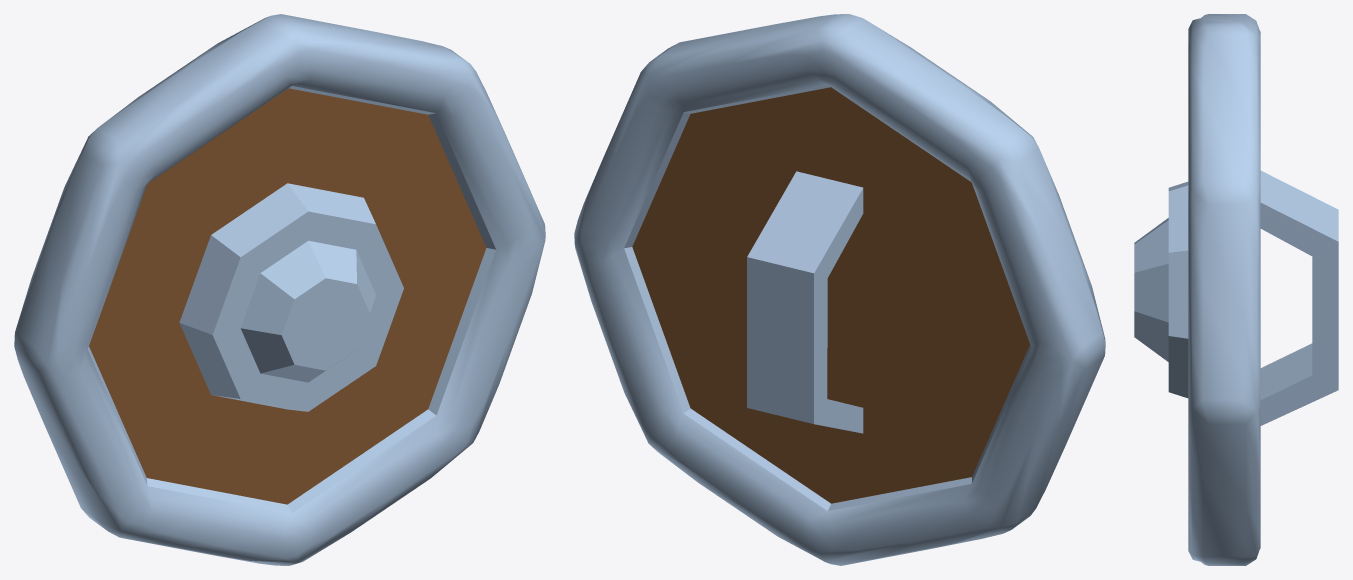
Rendered from shield.fbx.
3 renders of one model, left to right at view 1: azimuth 30°, elevation 25°; view 2: azimuth 150°, elevation 25°; view 3: azimuth 270°, elevation 25°, orthographic.
Parts seen in each view (by area): view 1: Shield03.001; view 2: Shield03.001; view 3: Shield03.001.
Part boxes in pixels (bbox=[...]): Shield03.001: bbox=[14, 14, 545, 565]; Shield03.001: bbox=[574, 14, 1105, 565]; Shield03.001: bbox=[1134, 14, 1338, 565].
Bounding box in the file's own units: 80.3 × 80.3 × 28.18.
